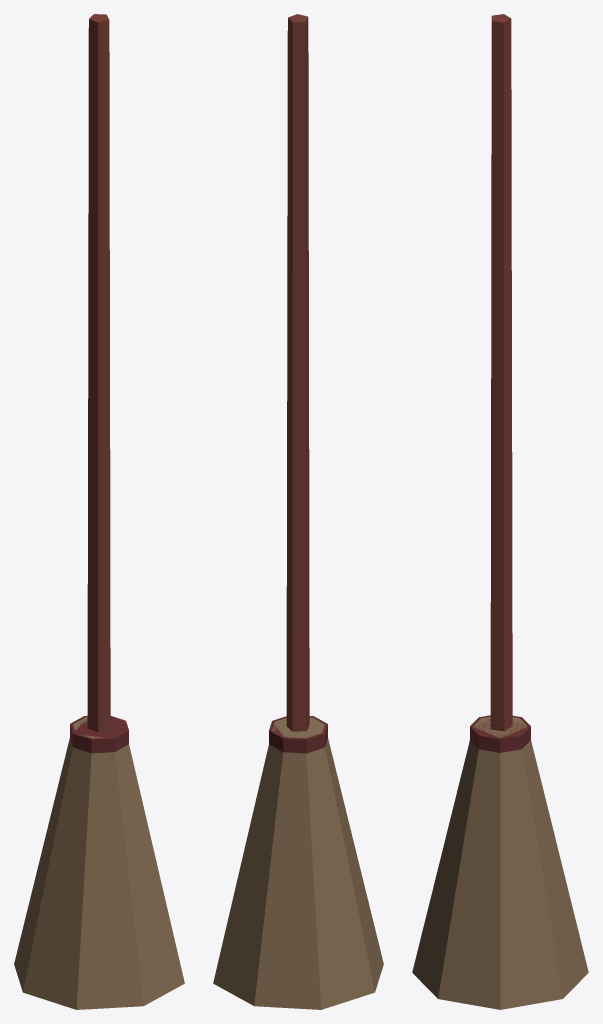
The model's file is matura.glb.
3 renders of one model, left to right at view 1: azimuth 30°, elevation 25°; view 2: azimuth 150°, elevation 25°; view 3: azimuth 270°, elevation 25°, orthographic.
Visible parts, largest first — view 1: Matura; view 2: Matura; view 3: Matura.
Boxes of the visible parts, left/top/right/bottom form: Matura: left=14, top=14, right=184, bottom=1009; Matura: left=213, top=14, right=383, bottom=1009; Matura: left=412, top=14, right=588, bottom=1009.
Bounding box in the file's own units: 0.26 × 1.55 × 0.26.
